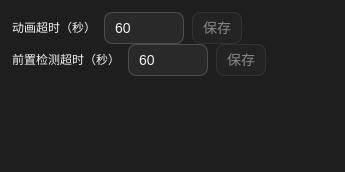
Test case: 保存失败保留编辑草稿并提供重新读取
Replace the text in the number field labelled "动画超时（秒）" with "90" at (144, 28), box [104,12,184,44]
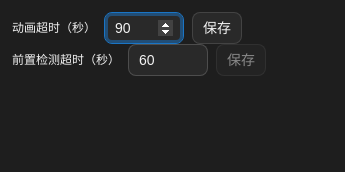
Click the button with aria-label "保存动画超时" at (217, 28), box [192,12,242,44]
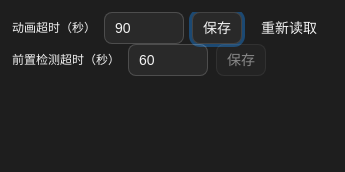
Now the button with aria-label "重新读取动画超时" is enabled, box [250,12,328,44]
